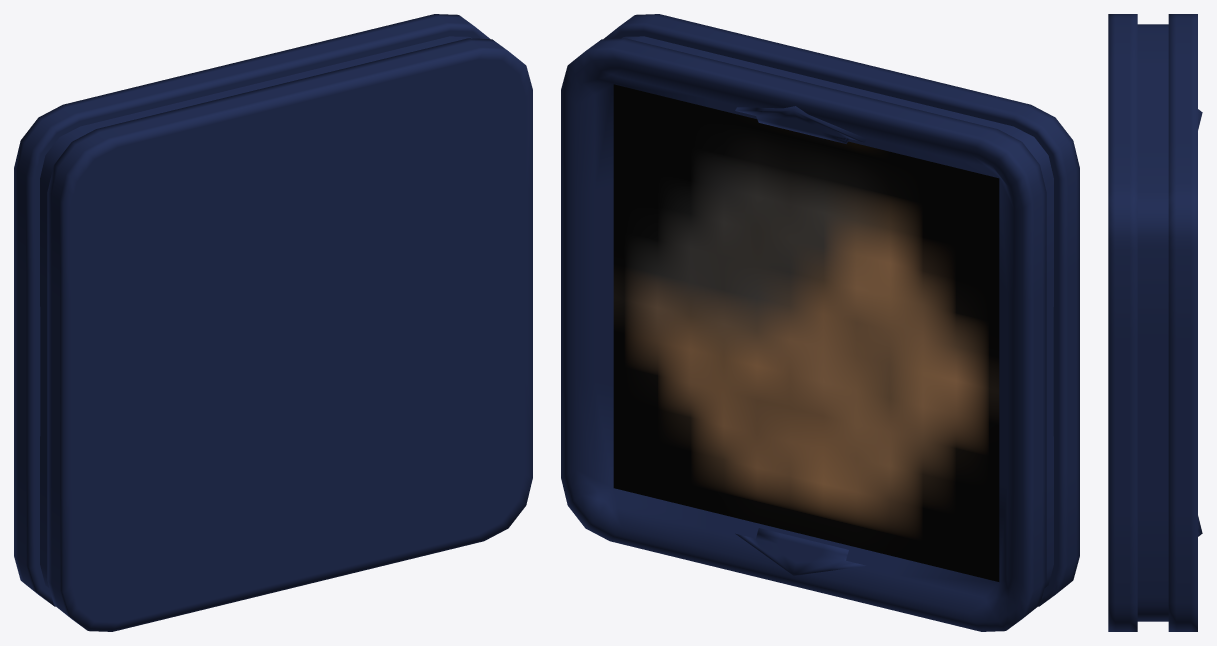
Rendered from fant_itemframe.fbx.
The picture shows the model from 3 angles, left to right: view 1: azimuth 30°, elevation 25°; view 2: azimuth 150°, elevation 25°; view 3: azimuth 270°, elevation 25°; orthographic projection. The views are drawn at different scales.
Parts seen in each view (by area): view 1: fant_itemframe; view 2: fant_itemframe; view 3: fant_itemframe.
Boxes of the visible parts, left/top/right/bottom form: fant_itemframe: left=14, top=14, right=532, bottom=631; fant_itemframe: left=561, top=14, right=1079, bottom=631; fant_itemframe: left=1108, top=14, right=1202, bottom=631.
Size of the model in its own units: 100 by 100 by 19.22.
